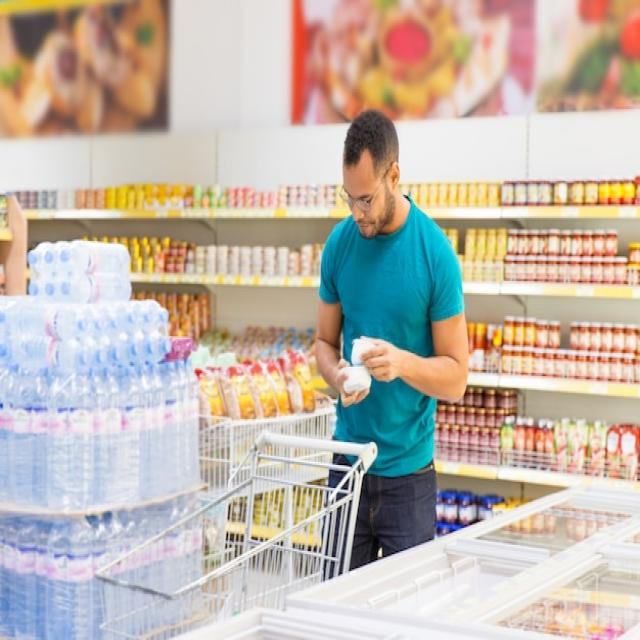Person: (316, 107, 469, 584)
